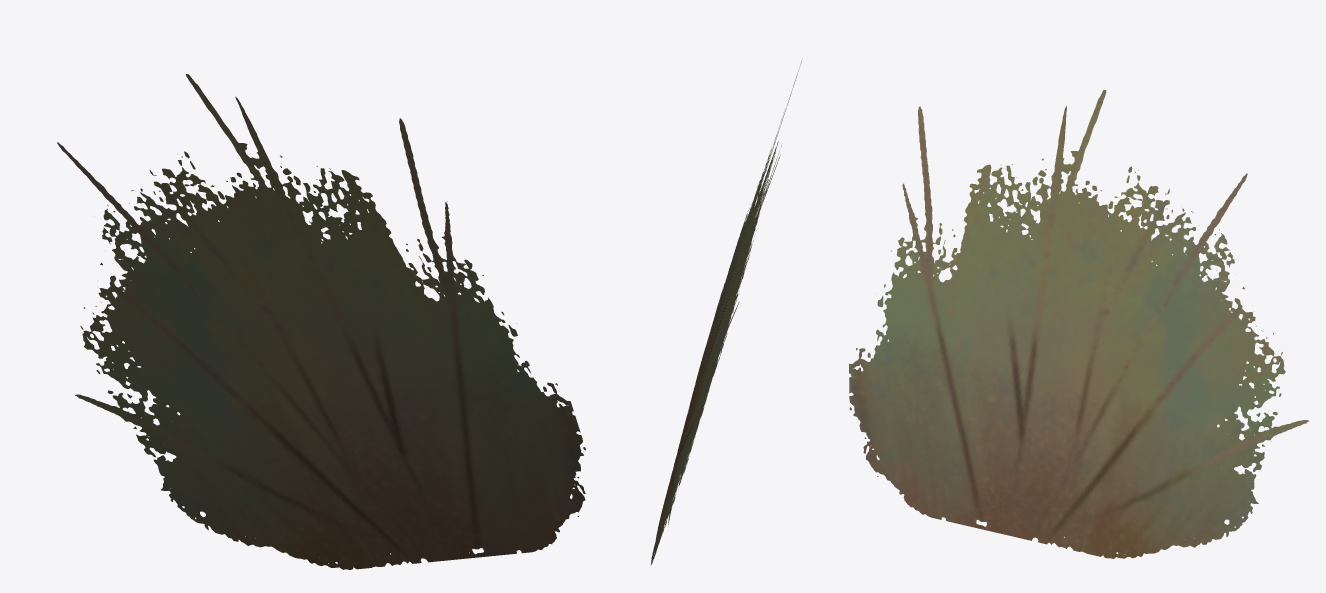
Rendered from bush1_002.fbx.
3 views of the same model, side by side, from view 1: azimuth 30°, elevation 25°; view 2: azimuth 150°, elevation 25°; view 3: azimuth 270°, elevation 25° (orthographic). The views are drawn at different scales.
Visible parts, largest first — view 1: bush1.002; view 2: bush1.002; view 3: bush1.002.
Boxes of the visible parts, x1,y1,x2,y2 form: bush1.002: [57, 74, 585, 569]; bush1.002: [650, 61, 801, 565]; bush1.002: [849, 90, 1309, 558].
Size of the model in its own units: 278 by 562 by 444.
